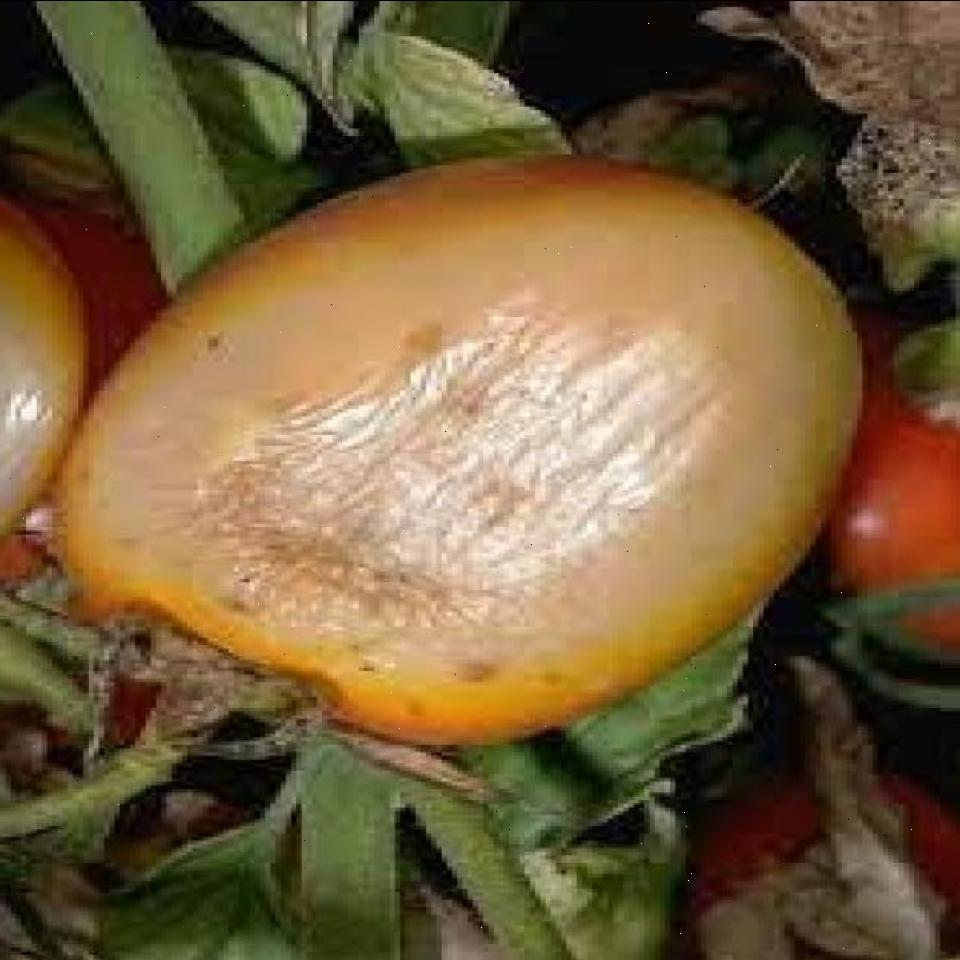Sunscald: (68, 176, 836, 684)
